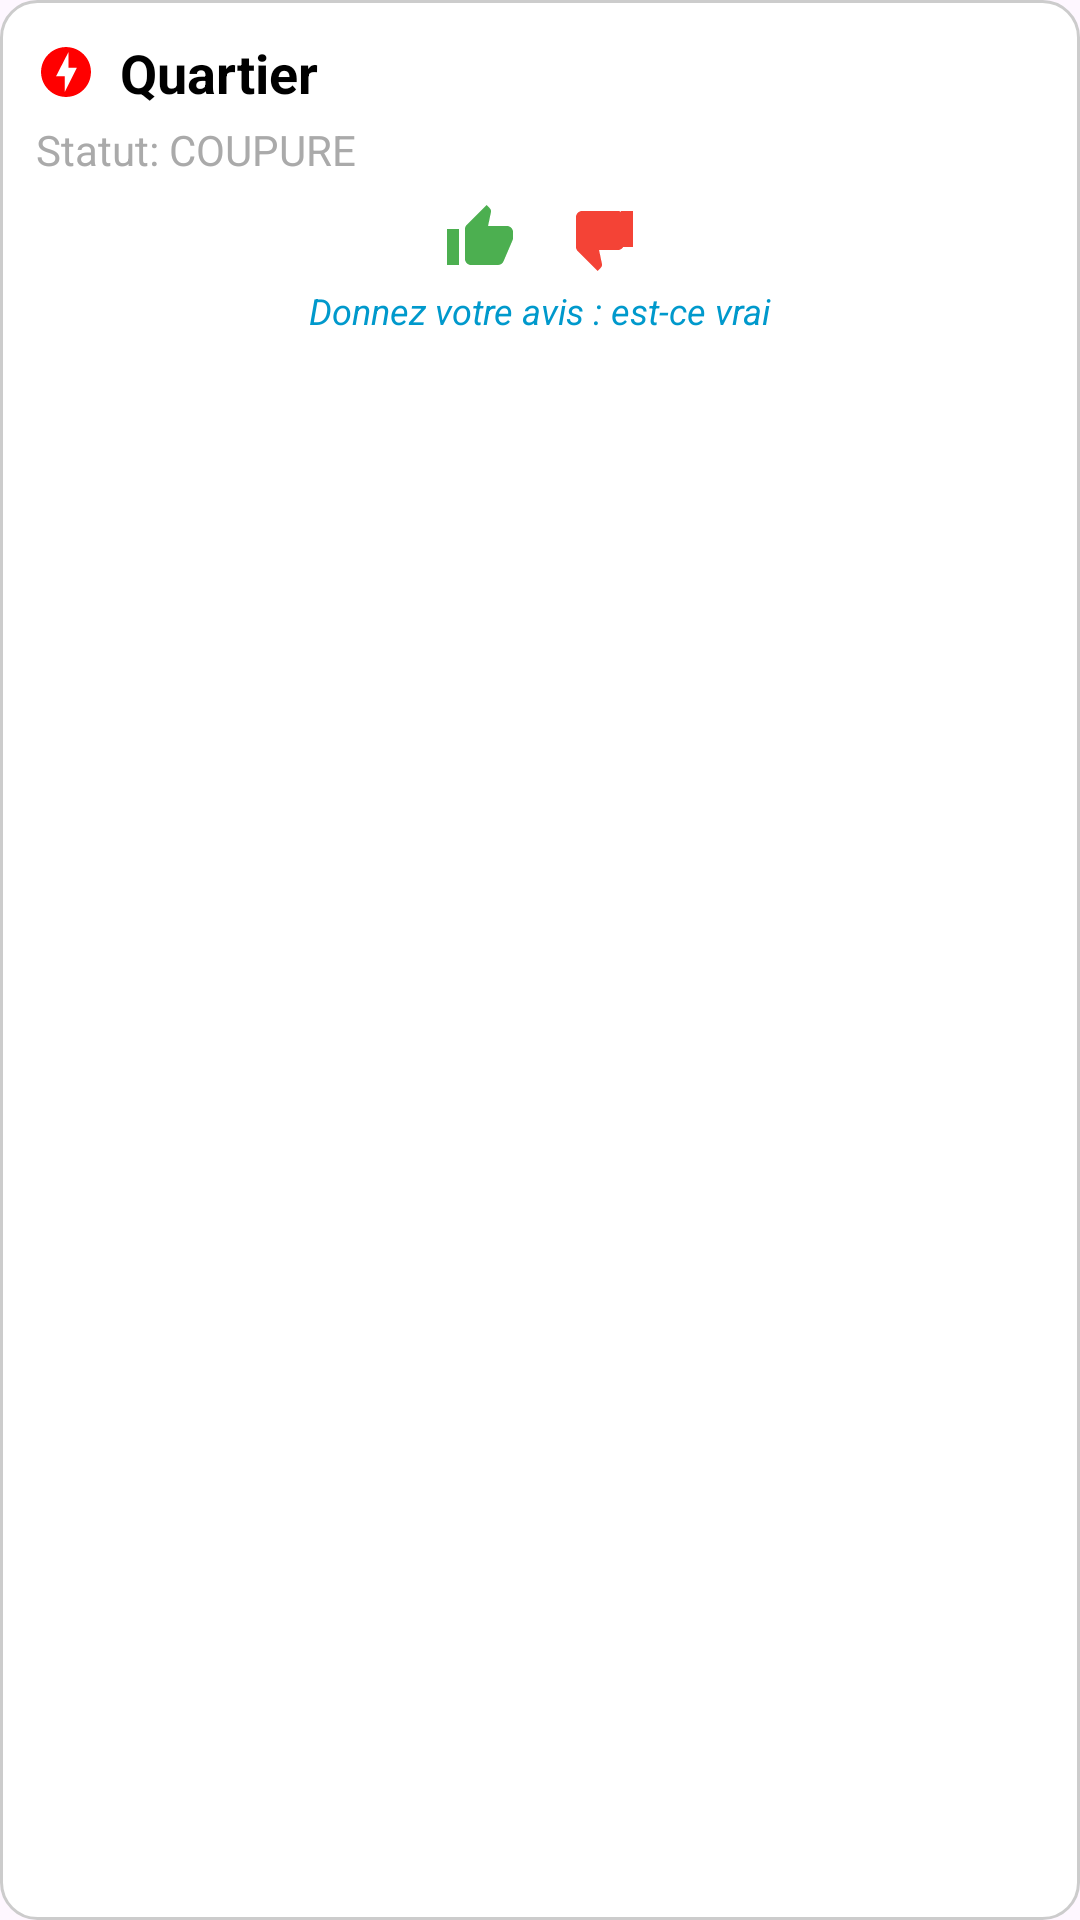

Point at icon controls on the screen. Image size 1080px x 1920px, points as (x=x, y=y).
eclair rouge: (x=66, y=72)
thumb down: (x=604, y=241)
thumb up: (x=480, y=235)
